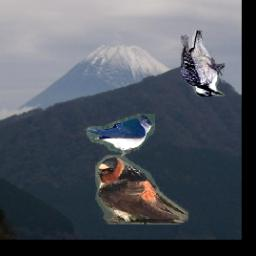Swallow: (95, 156, 188, 225), (85, 115, 155, 158)
Woodpecker: (181, 32, 225, 97)
